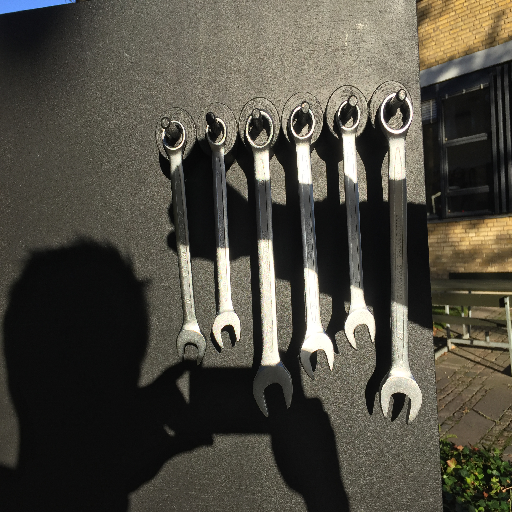bottom: (378, 371, 423, 427), (250, 363, 294, 420), (299, 332, 335, 381), (174, 324, 207, 368), (343, 309, 376, 350), (211, 309, 242, 352)
top: (375, 90, 414, 140), (243, 109, 277, 152), (287, 105, 317, 143), (334, 99, 361, 135), (160, 120, 188, 154), (204, 115, 228, 149)
